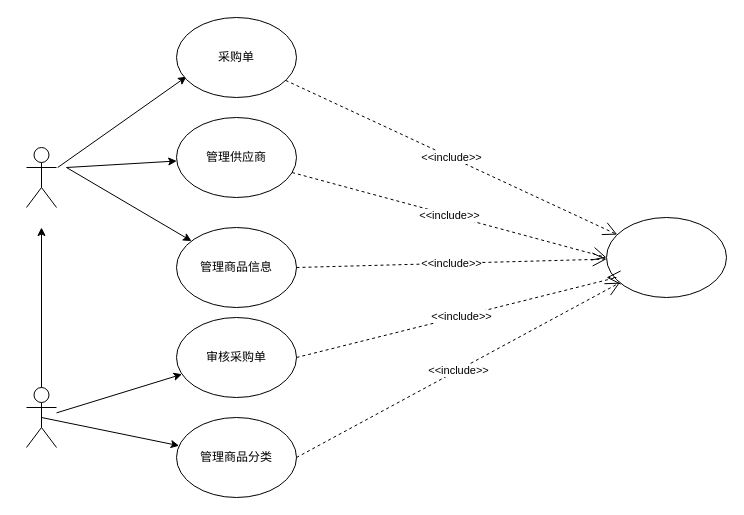
The diagram is 744 pixels wide and 515 high, and some of its shapes have lost their labels. Here are the shapes that lost their labels. From the top down, the centre of each, then its label:
At point (41, 177): "采购员".
At point (666, 257): "登录系统".
At point (41, 417): "采购经理".
